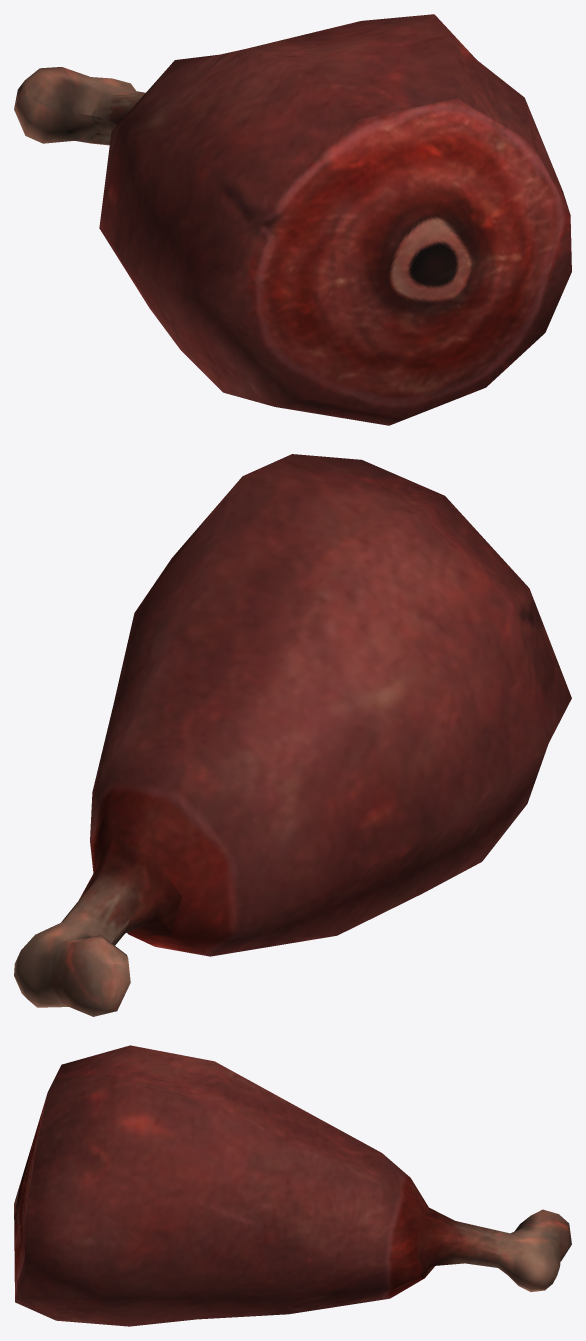
File: meat_01.dae
The picture shows the model from 3 angles, top to bottom: view 1: azimuth 30°, elevation 25°; view 2: azimuth 150°, elevation 25°; view 3: azimuth 270°, elevation 25°; orthographic projection. The views are drawn at different scales.
Visible parts, largest first — view 1: meat_01; view 2: meat_01; view 3: meat_01.
Boxes of the visible parts, box(x1,y1,x2,y2) form: meat_01: box(14, 14, 571, 425); meat_01: box(14, 454, 571, 1016); meat_01: box(14, 1045, 571, 1326).
Size of the model in its own units: 0.033 by 0.0318 by 0.0608.
